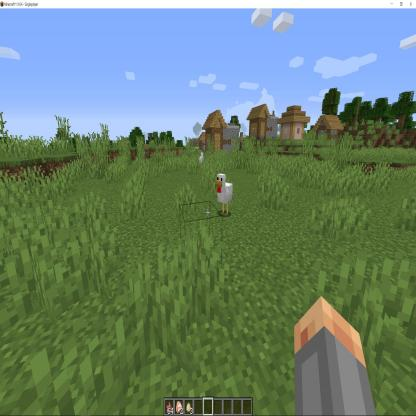minecraft-pigs: (212, 169, 237, 218), (197, 151, 208, 173)
